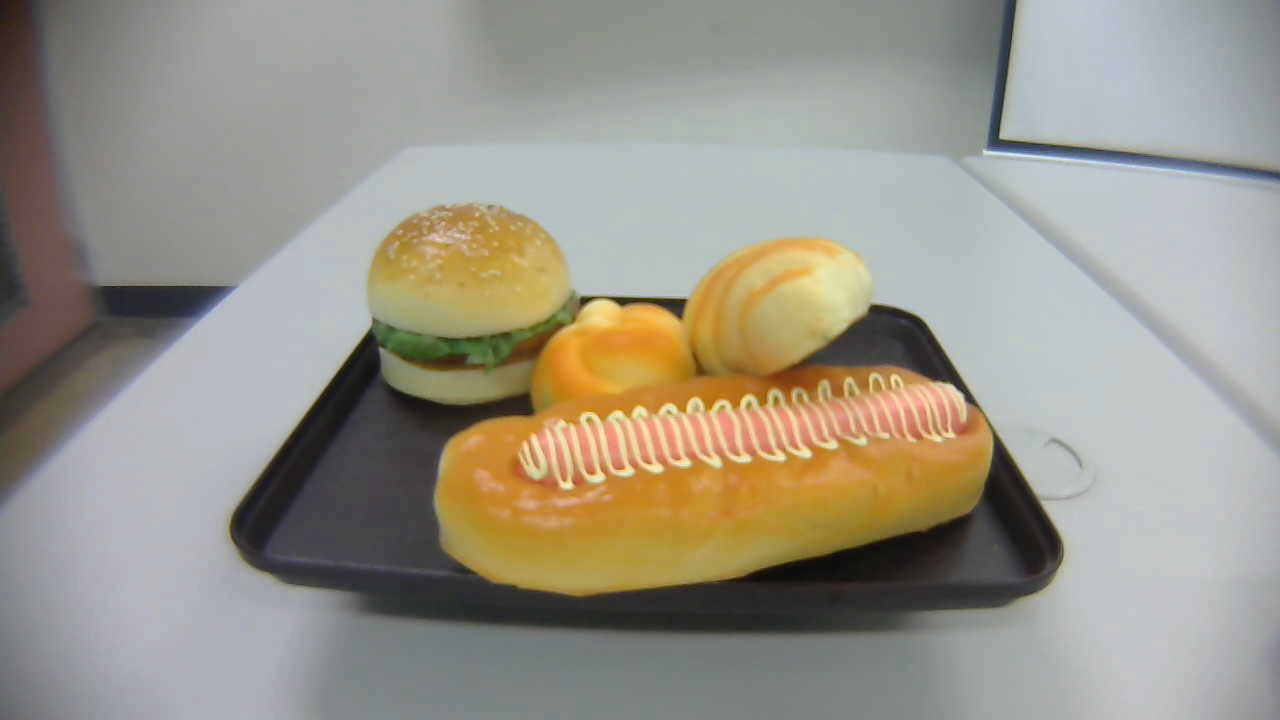croissant: (681, 237, 872, 375)
hamburger: (364, 202, 582, 407)
hot dog: (431, 364, 993, 597)
twist bread: (530, 295, 700, 423)
